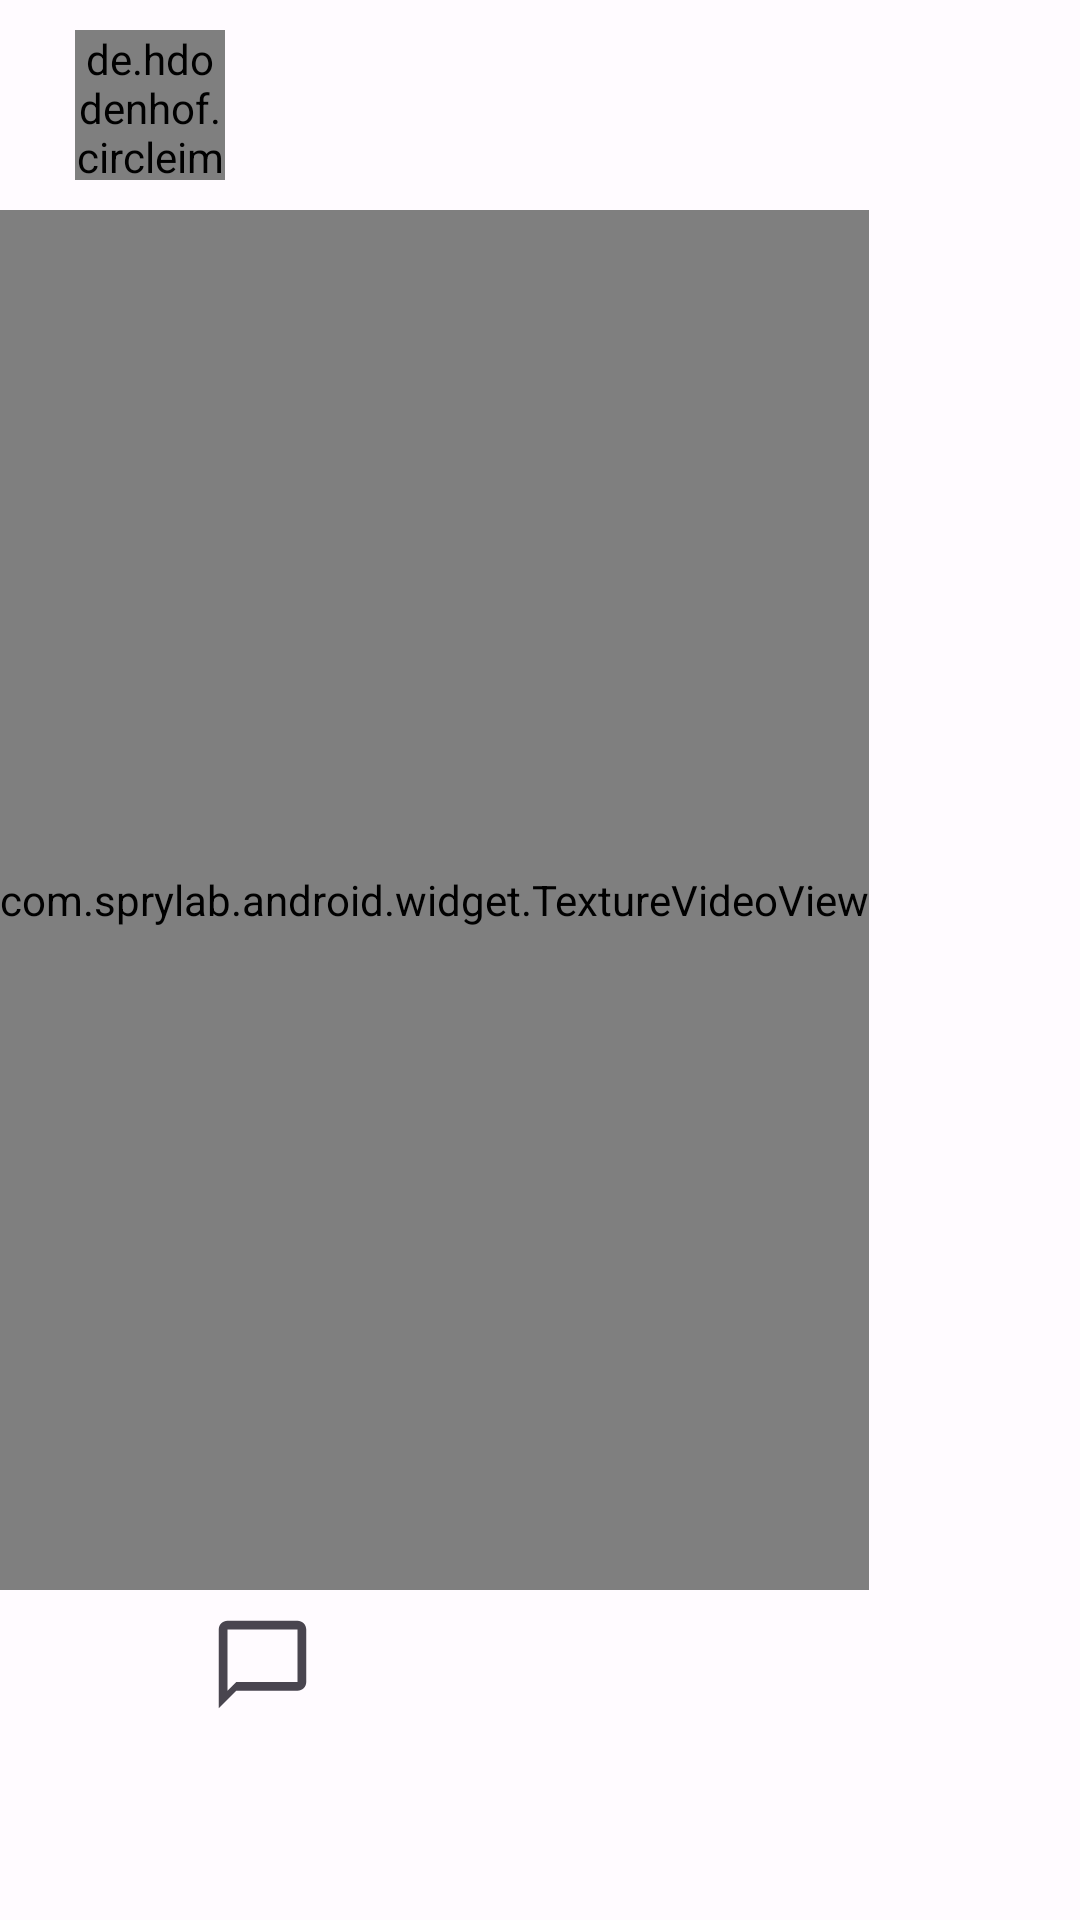

Icons on this 1080x1920 Android screen, each with the point to tap as point (x, y):
chat bubble: point (262, 1664)
